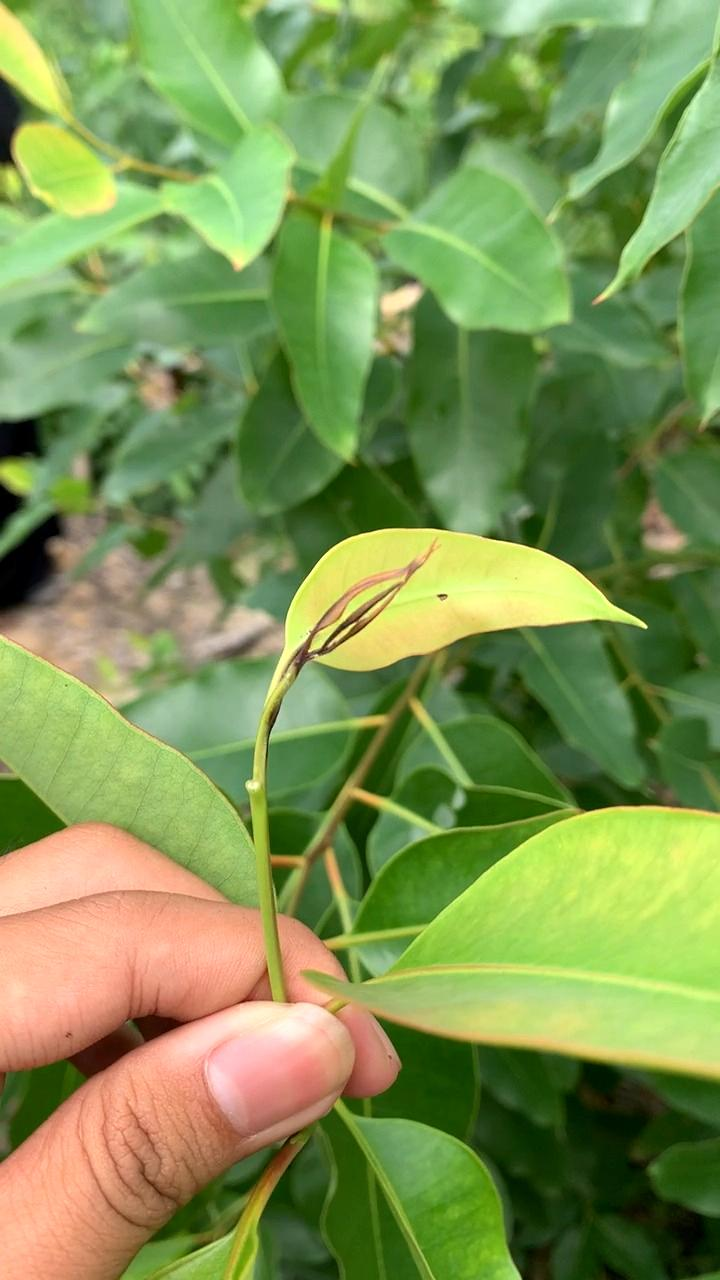Helopeltis-Withered Sprout: (276, 520, 441, 673)
